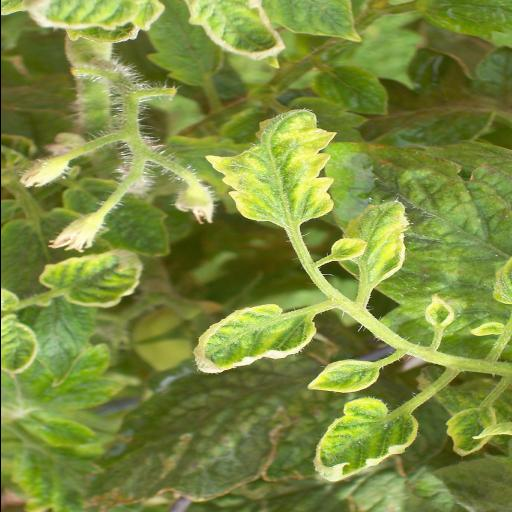Yellow Leaf Curl Virus: (209, 109, 333, 226), (190, 302, 318, 378), (310, 396, 418, 486), (176, 0, 288, 60), (336, 197, 412, 285), (35, 248, 142, 310), (440, 406, 504, 458), (0, 310, 41, 374), (306, 358, 381, 392)
